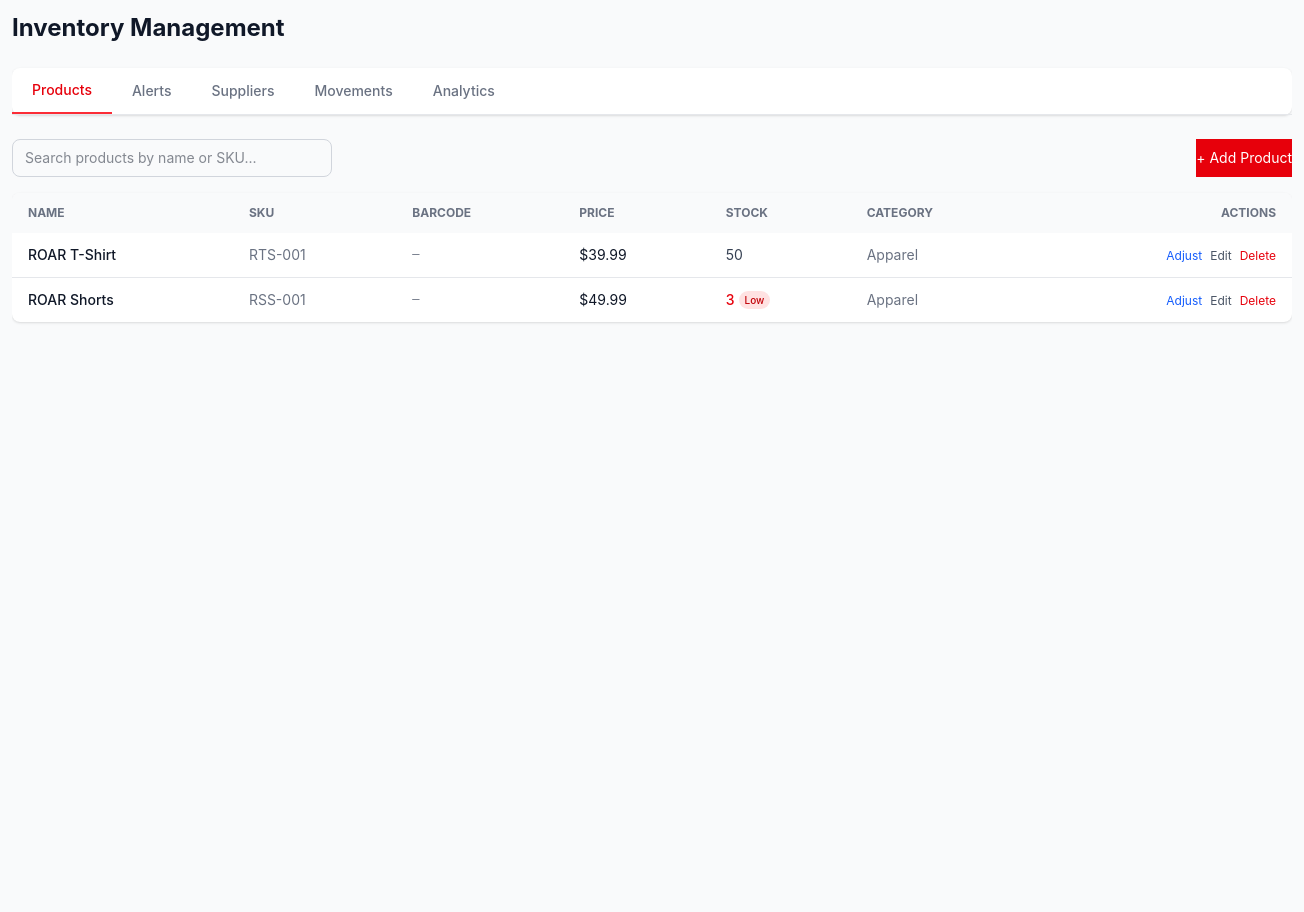
Scenario: InventoryManagement › ProductList › adds a new product via form submission
expect the text "ROAR T-Shirt" is shown: met, box top-left (28, 246), bottom-right (116, 263)
Click the button "+ Add Product" at (1244, 158), box top-left (1196, 139), bottom-right (1292, 177)
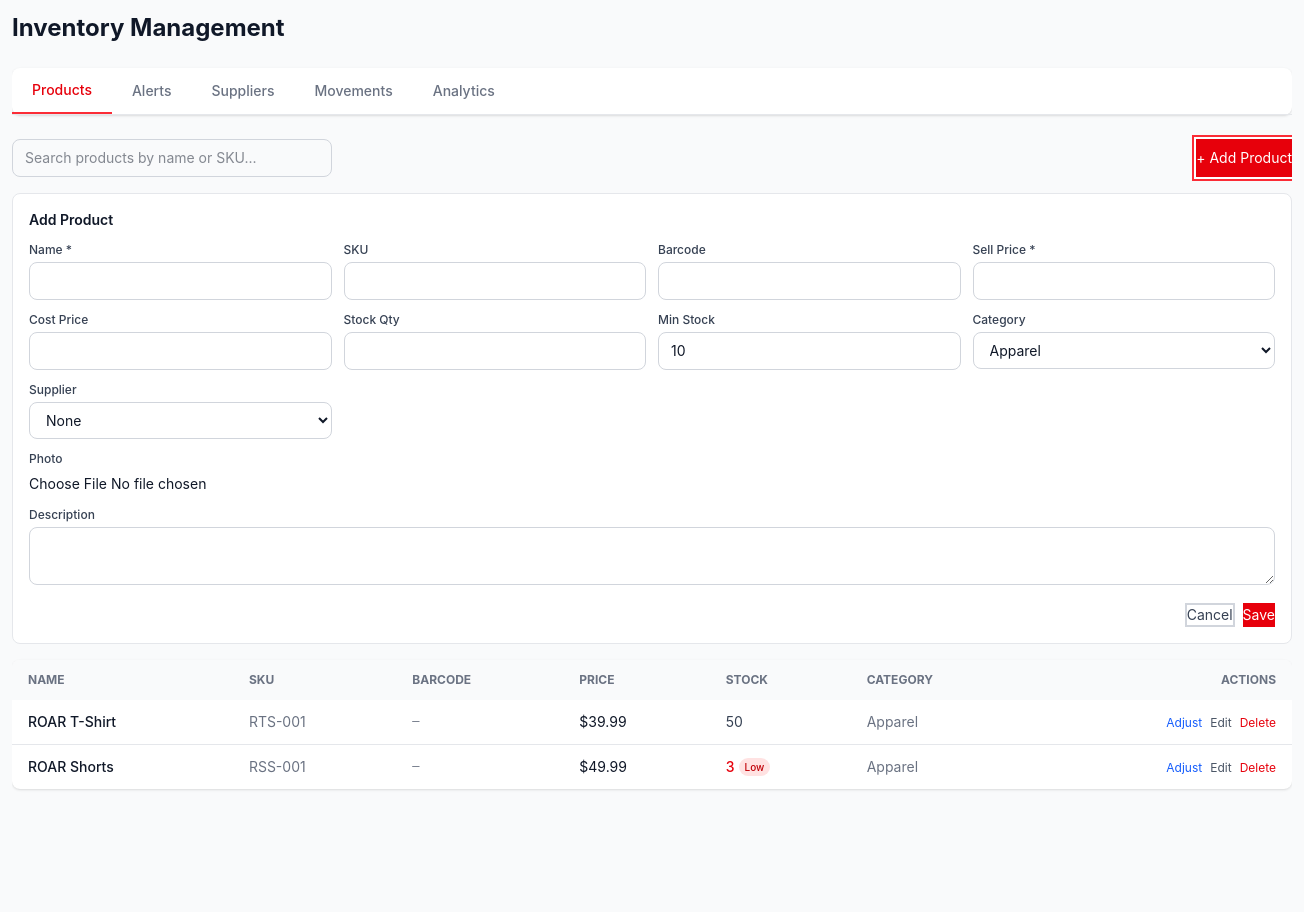
Type "New Product" into the field below "Name *" at (180, 281), box top-left (29, 262), bottom-right (332, 300)
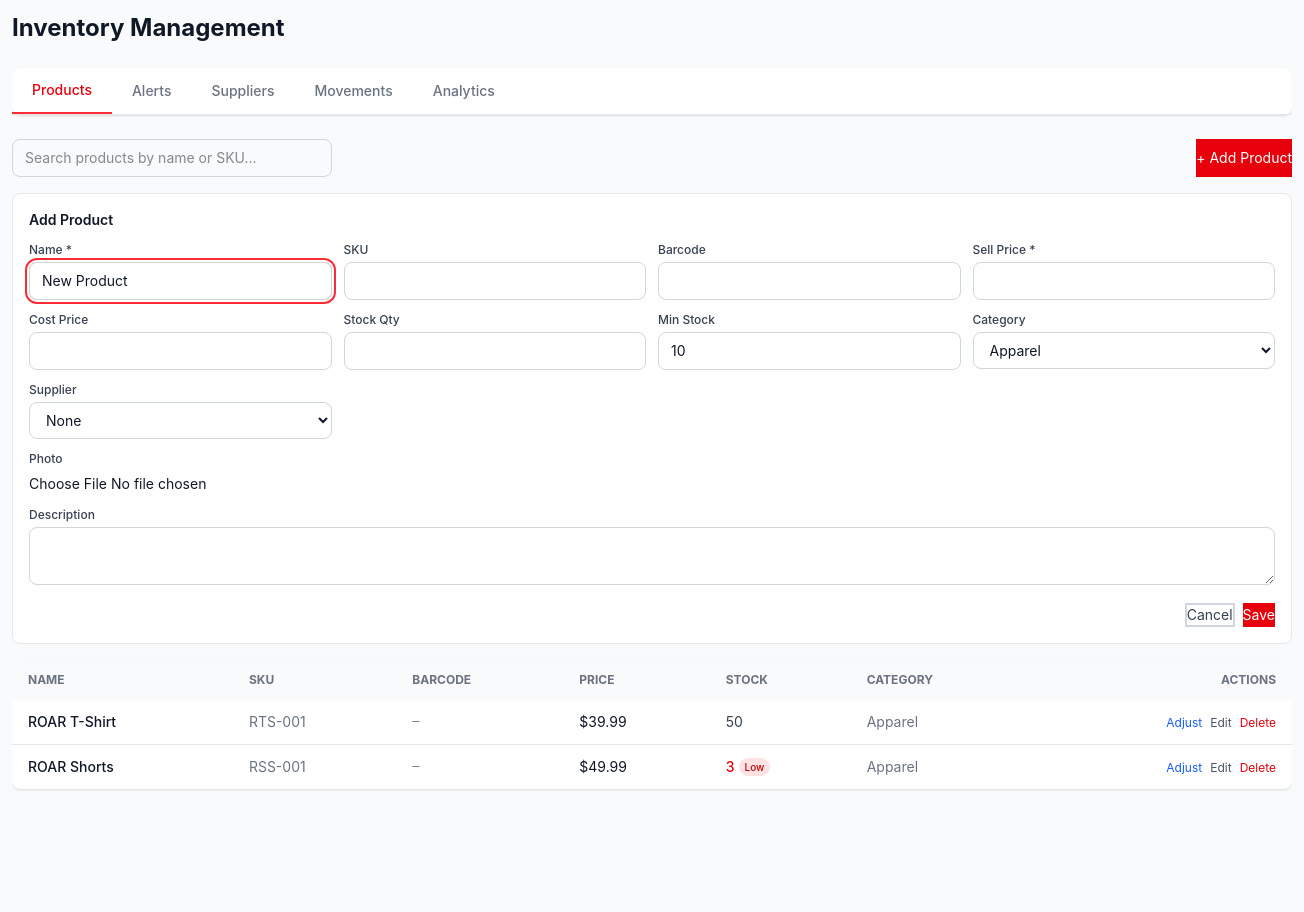
Type "29.99" into the number field below "Sell Price *" at (1124, 281), box top-left (972, 262), bottom-right (1275, 300)
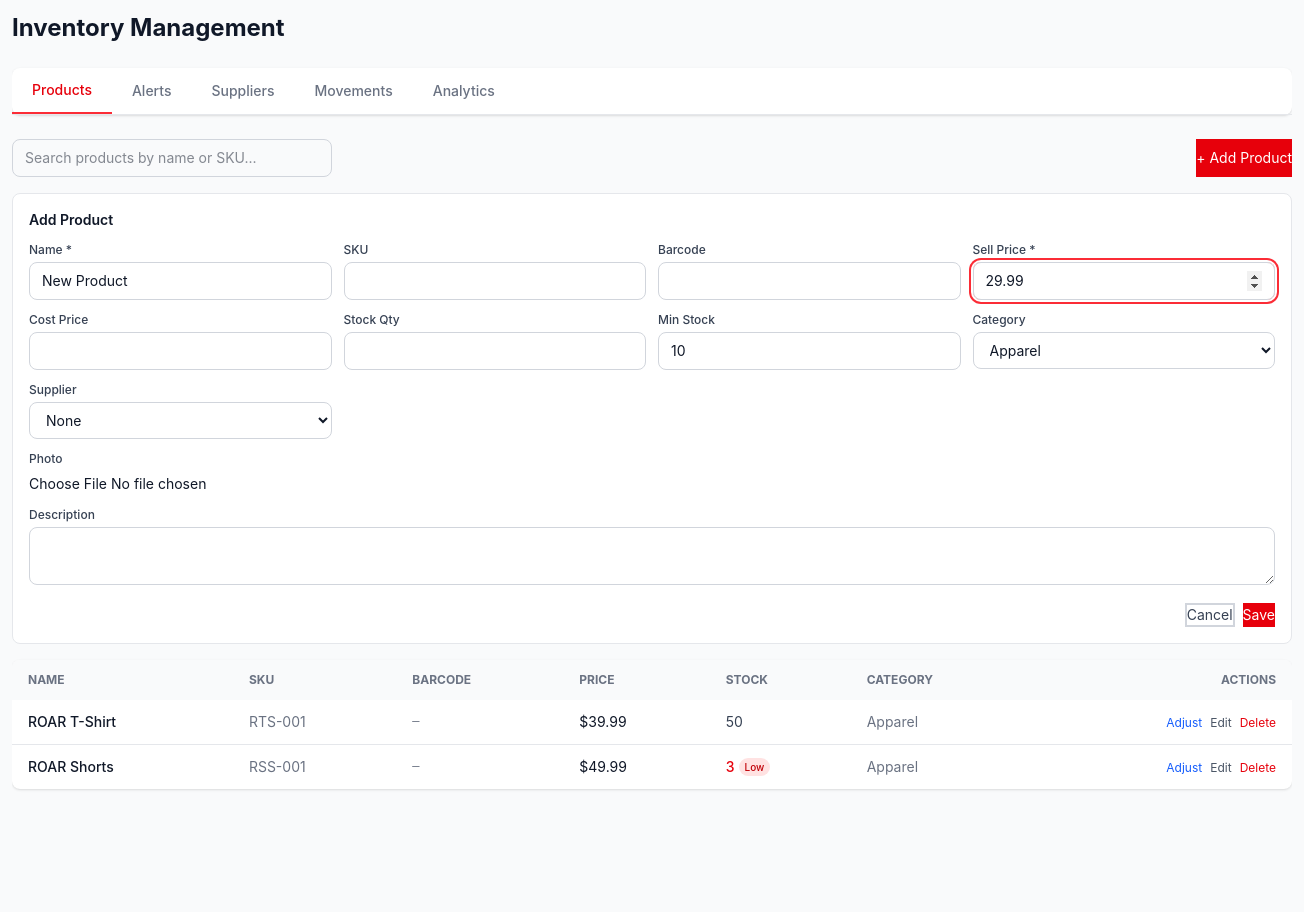
Click the button "Save" at (1259, 615), box top-left (1243, 603), bottom-right (1275, 627)
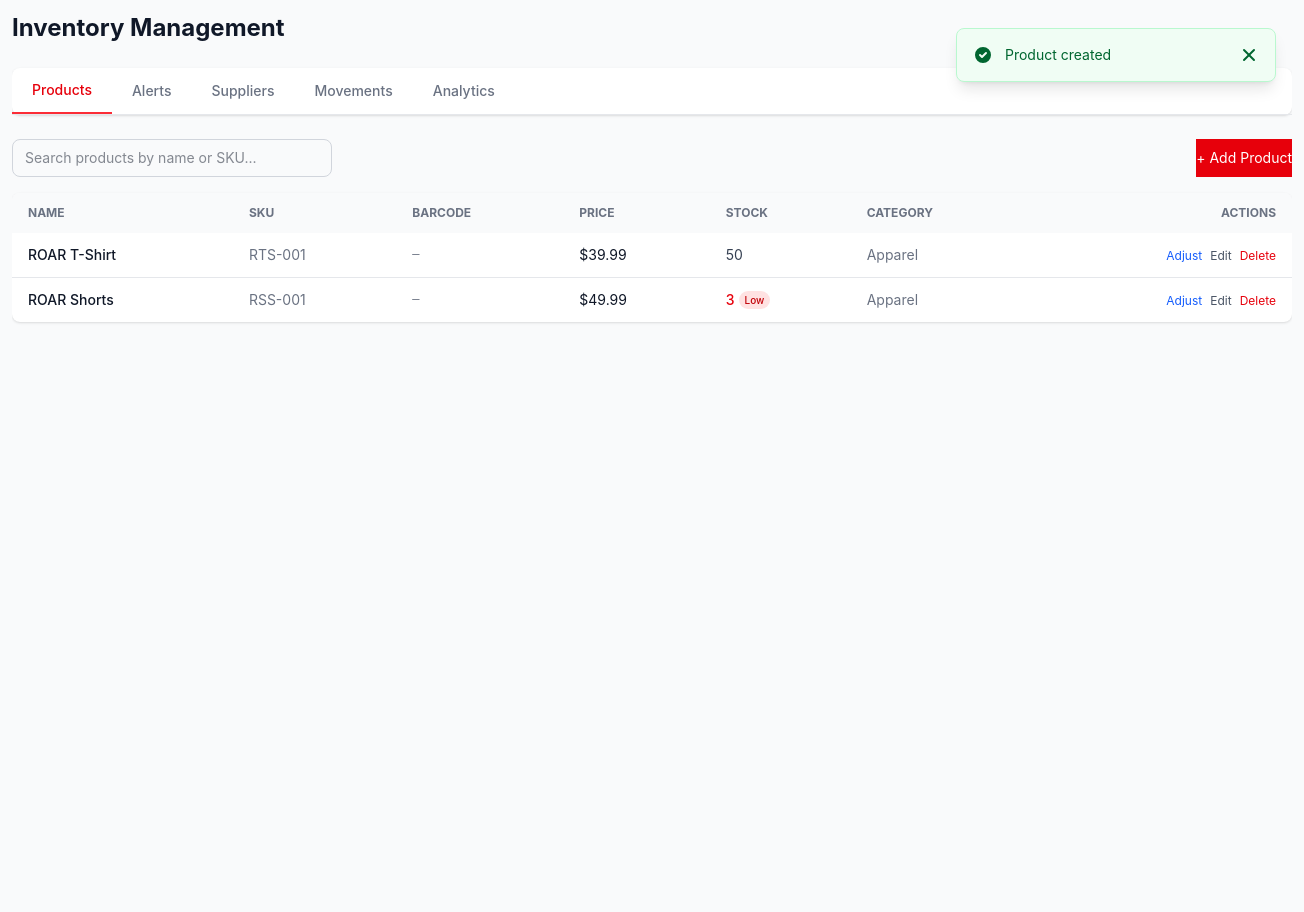
expect the text "Product created" is shown: met, box top-left (1005, 46), bottom-right (1111, 63)
